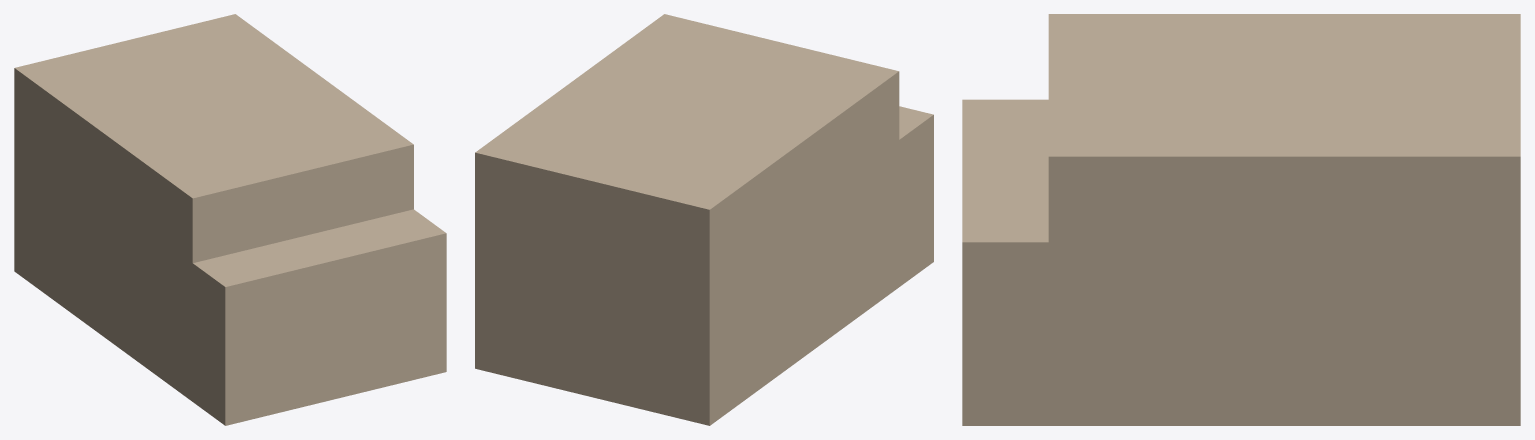
The model's file is massing.glb.
3 renders of one model, left to right at view 1: azimuth 30°, elevation 25°; view 2: azimuth 150°, elevation 25°; view 3: azimuth 270°, elevation 25°, orthographic. The views are drawn at different scales.
Parts seen in each view (by area): view 1: building/exterior; view 2: building/exterior; view 3: building/exterior.
Boxes of the visible parts, box(x1,y1,x2,y2) form: building/exterior: box(14, 14, 446, 425); building/exterior: box(475, 14, 933, 425); building/exterior: box(962, 14, 1520, 425).
Size of the model in its own units: 10 by 8.8 by 16.54.
